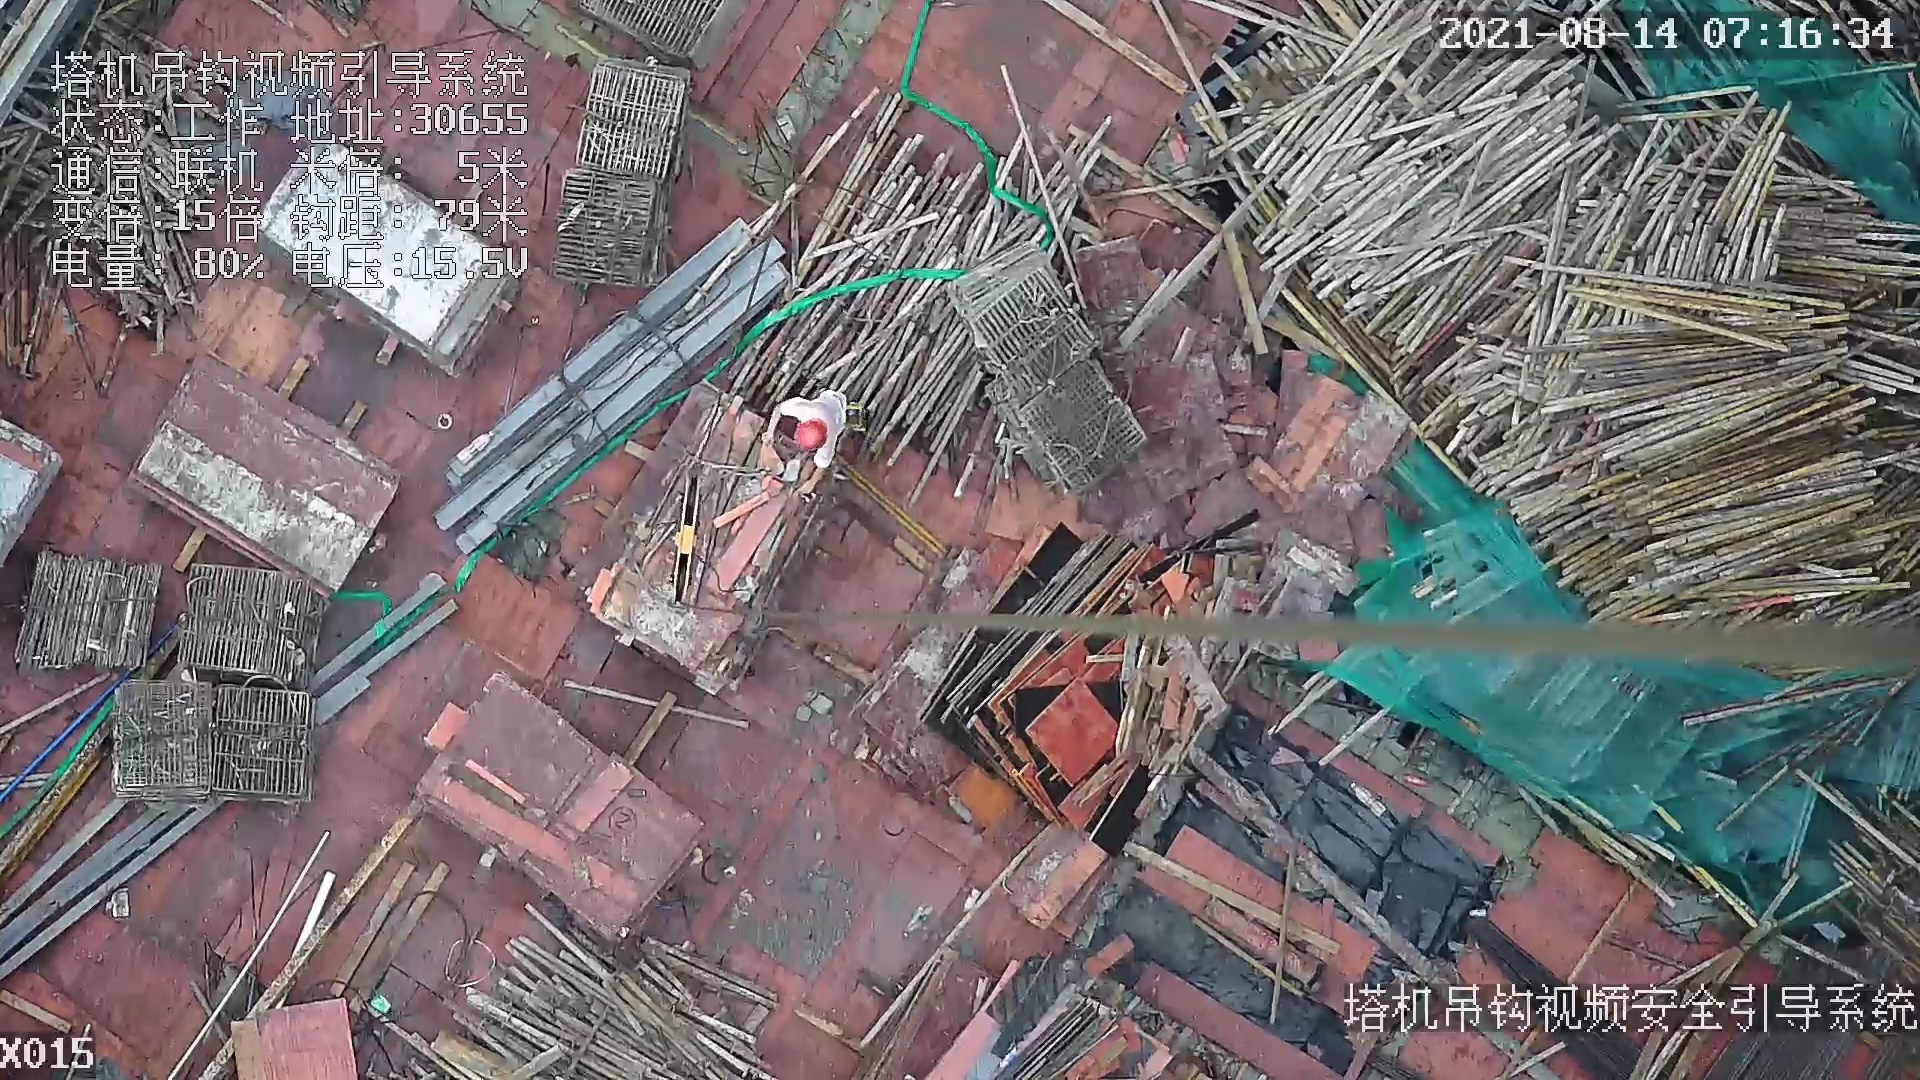helmet: (792, 417, 837, 452)
hook: (664, 478, 697, 612)
person: (765, 387, 850, 503)
